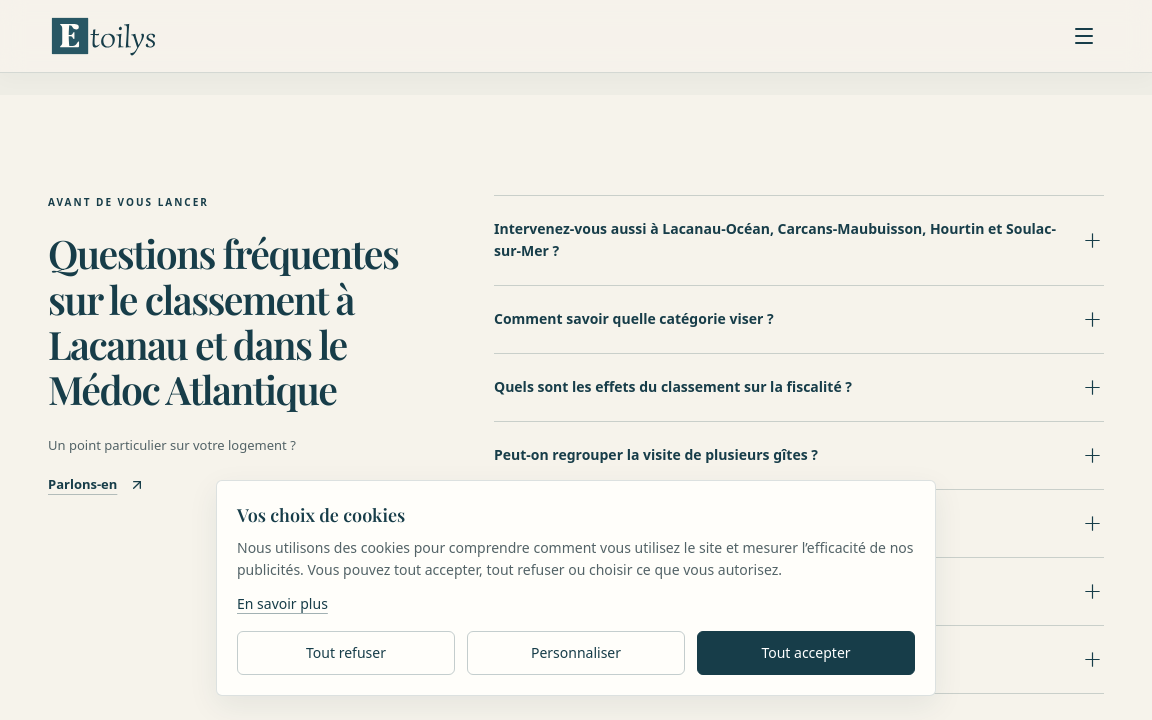
it: ClassementMedocAtlantique › renders the Lacanau and Médoc Atlantique destination with V6 content
The width and height of the screenshot is (1152, 720).
Later steps or results of the test are not shown.
(page scrolled)
Click the button named "Intervenez-vous aussi à Lacanau-Océan, Carcans-Maubuisson, Hourtin et Soulac-sur-Mer ?" at (799, 240), box [494,196,1104,285]
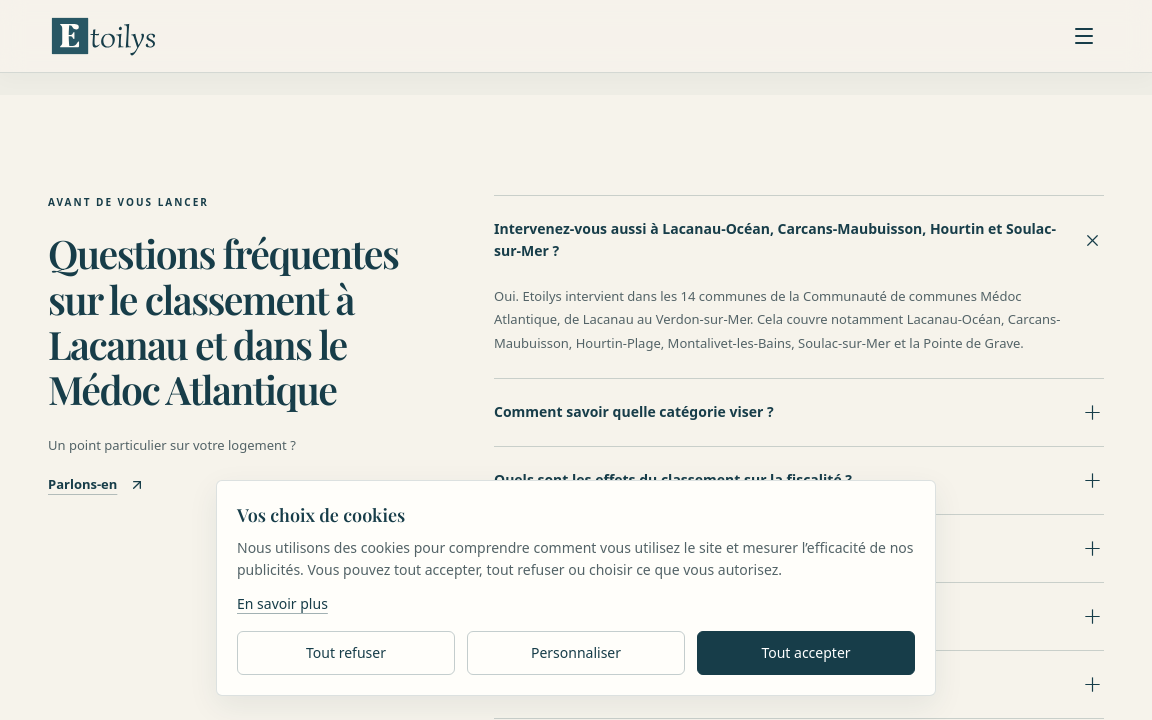
Check: the text "Hourtin-Plage" is shown, box [494,287,1060,352]
Check: the text "Montalivet-les-Bains" is shown, box [494,287,1060,352]
Check: the text "Pointe de Grave" is shown, box [494,287,1060,352]
